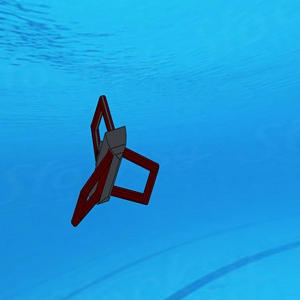submarine: (69, 107, 162, 215)
